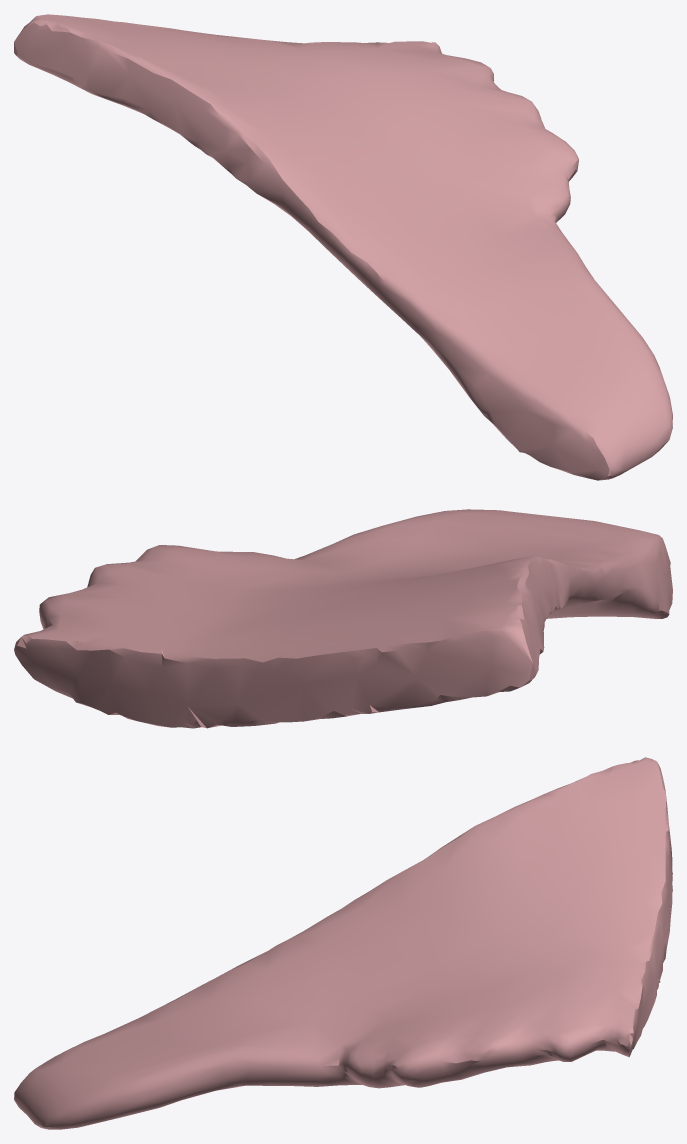
File: fma275269_mm3776.glb
3 renders of one model, top to bottom at view 1: azimuth 30°, elevation 25°; view 2: azimuth 150°, elevation 25°; view 3: azimuth 270°, elevation 25°, orthographic. The views are drawn at different scales.
Visible parts, largest first — view 1: FMA275269_MM3776; view 2: FMA275269_MM3776; view 3: FMA275269_MM3776.
Boxes of the visible parts, x1,y1,x2,y2 form: FMA275269_MM3776: [14, 14, 672, 480]; FMA275269_MM3776: [14, 509, 672, 728]; FMA275269_MM3776: [14, 757, 672, 1129].
Size of the model in its own units: 0.0226 by 0.0135 by 0.0328.
